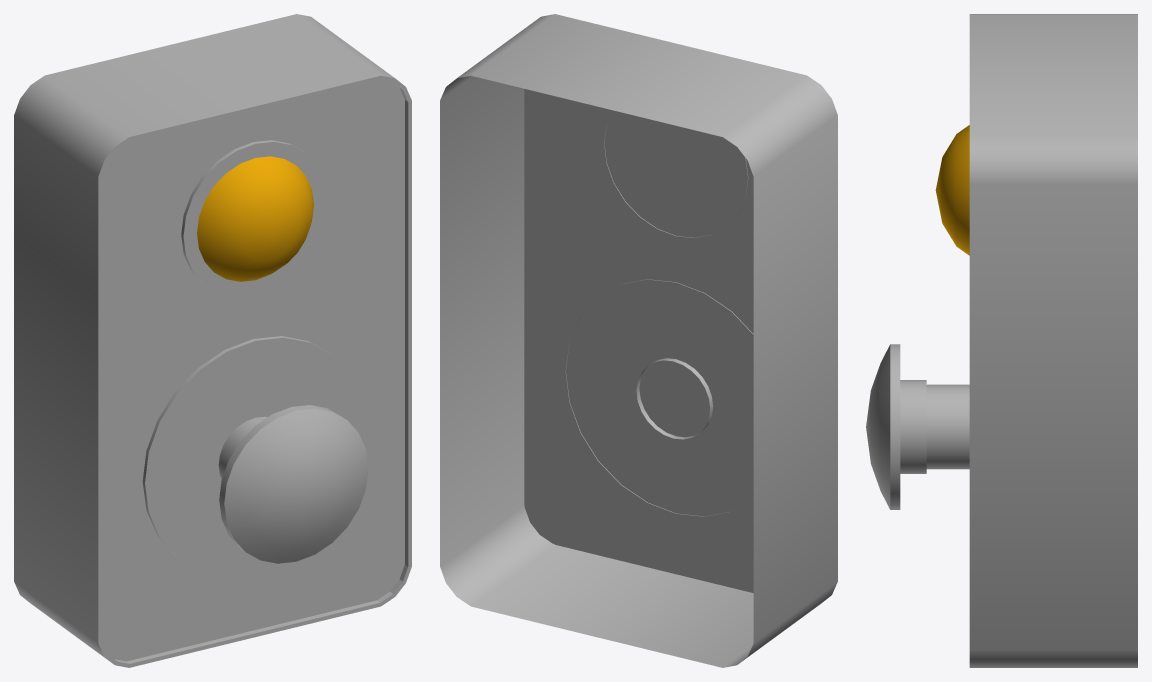
The model's file is Switch_001.FBX.
3 views of the same model, side by side, from view 1: azimuth 30°, elevation 25°; view 2: azimuth 150°, elevation 25°; view 3: azimuth 270°, elevation 25° (orthographic).
Visible parts, largest first — view 1: SwitchBase, Switch; view 2: SwitchBase, Switch; view 3: SwitchBase, Switch.
Boxes of the visible parts, left/top/right/bottom form: SwitchBase: left=14, top=14, right=411, bottom=667; Switch: left=218, top=405, right=368, bottom=563; SwitchBase: left=440, top=14, right=837, bottom=667; Switch: left=636, top=358, right=712, bottom=439; SwitchBase: left=935, top=14, right=1137, bottom=667; Switch: left=866, top=344, right=969, bottom=509.
Size of the model in its own units: 18.64 by 30.15 by 14.03.
